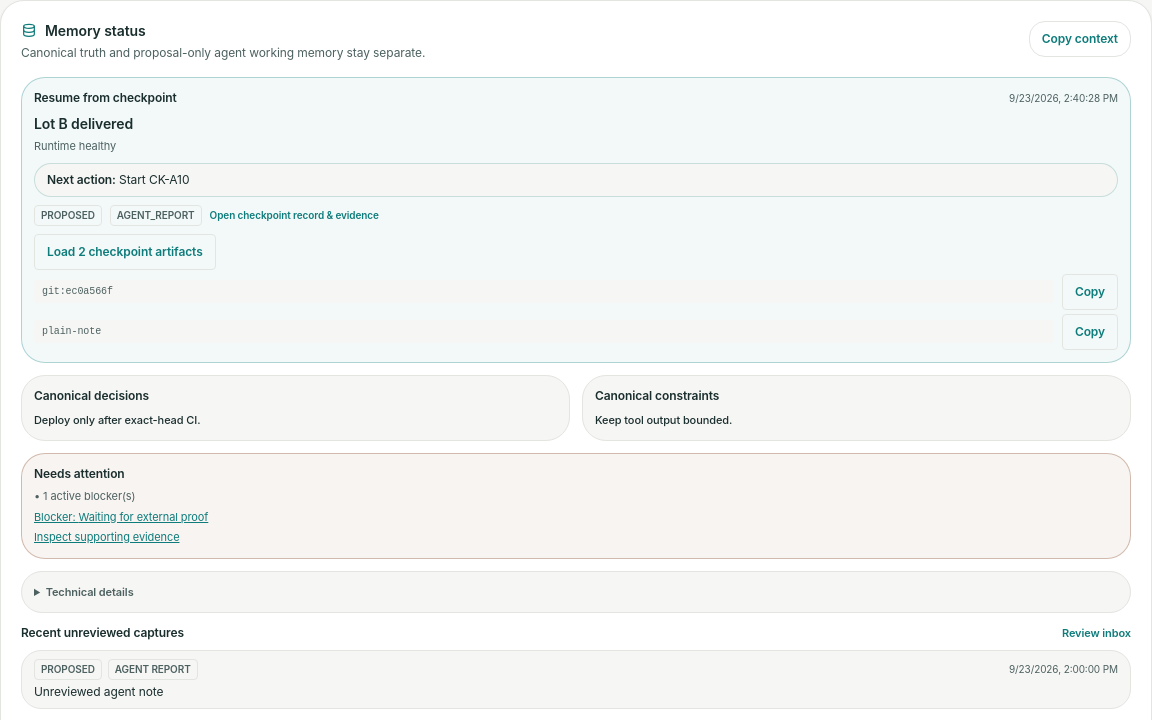
it: offers the selected artifact, not an unrelated resume, when artifact copy is denied
Expected: the heading "Resume from checkpoint" is shown, [34, 90, 177, 106]
Click the button with aria-label "Copy artifact reference plain-note": (1090, 332) [1062, 314, 1118, 350]
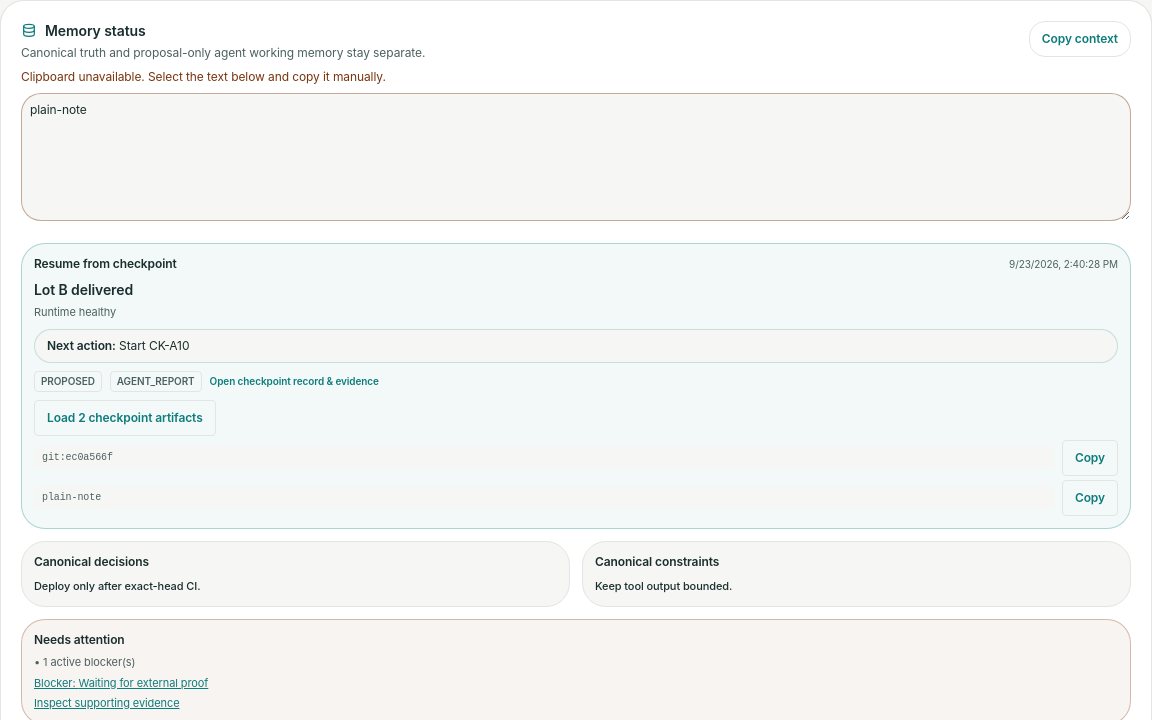
Expected: the button "Copy context" is shown, [1029, 21, 1131, 57]
Now the text box named "Selectable artifact reference" holds "plain-note", box [21, 93, 1131, 221]
Now the text "Clipboard unavailable" is shown, box [21, 69, 386, 84]
